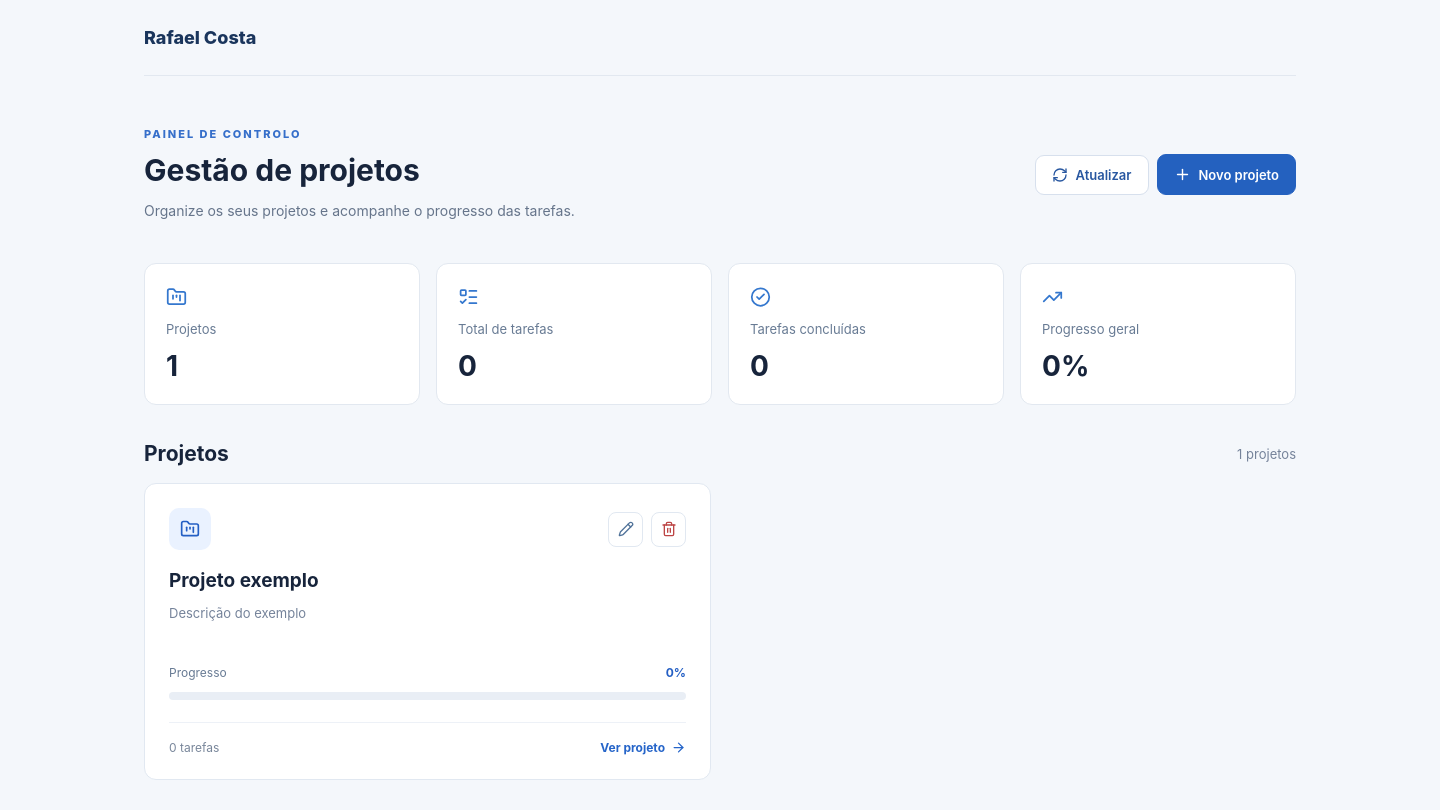
Test case: Ramificações do dashboard › apresenta falha quando a eliminação é recusada pela API
Expected: the heading "Projeto exemplo" is shown, [169,569,319,592]
Step 1. Click the button named "Eliminar Projeto exemplo" → (668, 529), box [651,512,686,546]
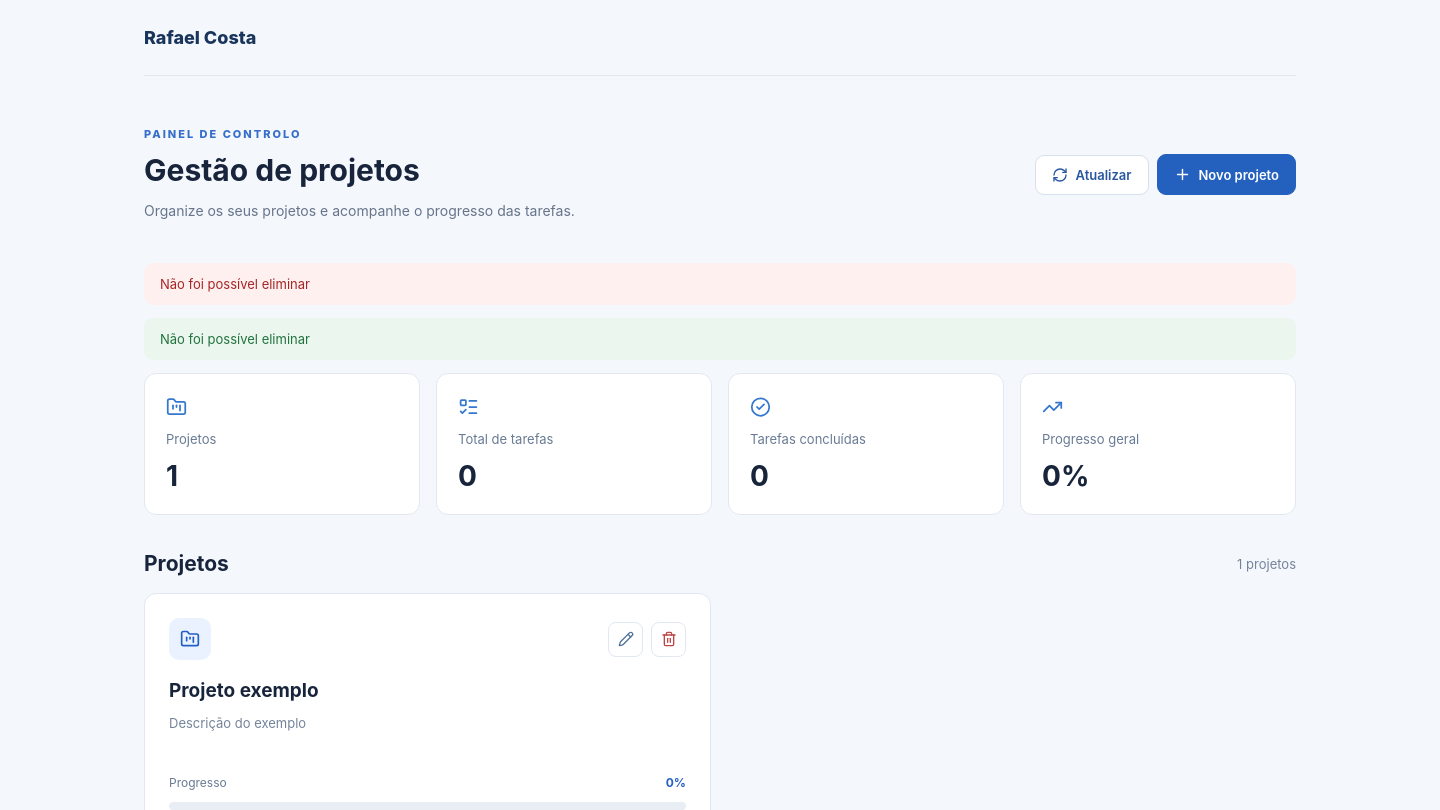
Expected: the 2nd message "Não foi possível eliminar" is shown, [144,318,1296,360]
